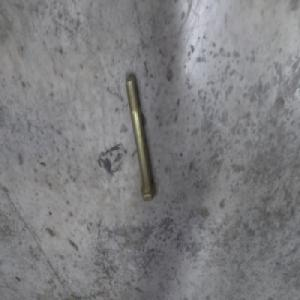Bolt: (125, 73, 156, 201)
